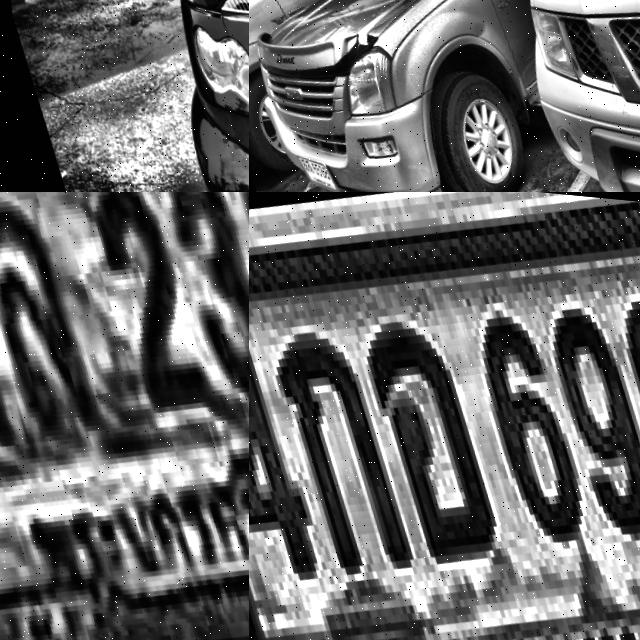license-plate: (249, 192, 640, 640), (0, 192, 249, 640), (285, 144, 333, 192)
